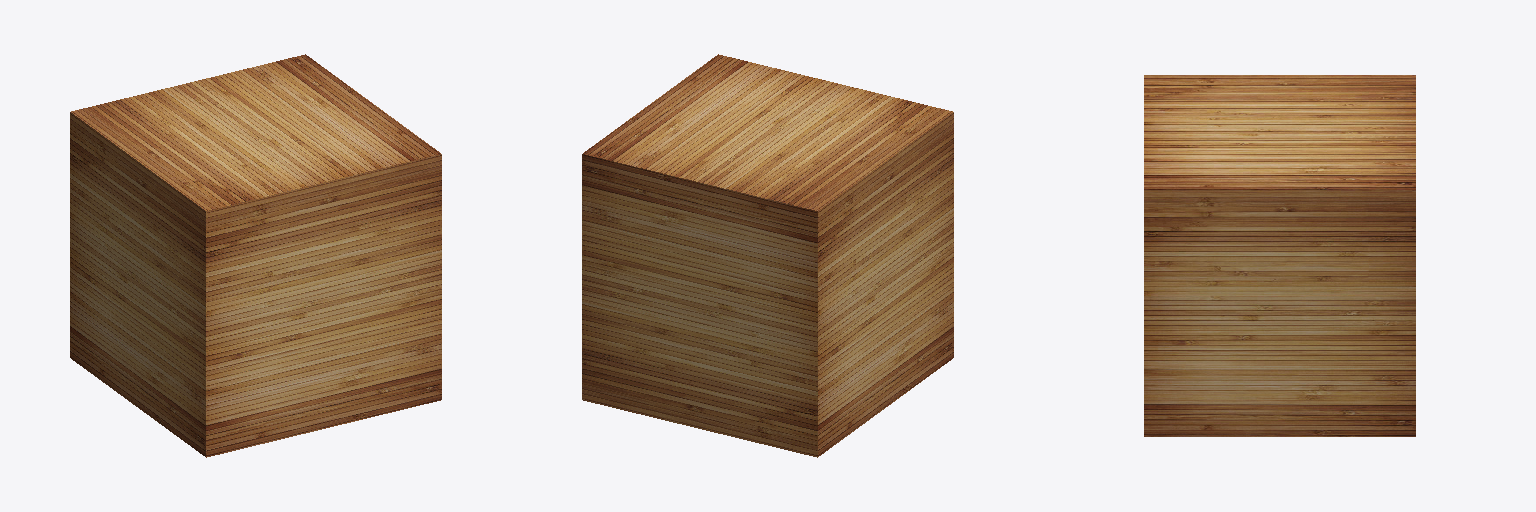
3 views of the same model, side by side, from view 1: azimuth 30°, elevation 25°; view 2: azimuth 150°, elevation 25°; view 3: azimuth 270°, elevation 25° (orthographic).
Parts seen in each view (by area): view 1: Cube; view 2: Cube; view 3: Cube.
Boxes of the visible parts, <box> form: Cube: <box>70,54,441,457</box>; Cube: <box>582,54,953,457</box>; Cube: <box>1144,75,1415,436</box>.
Bounding box in the file's own units: 1 × 1 × 1.
Materials: 1 (1 with a texture image).